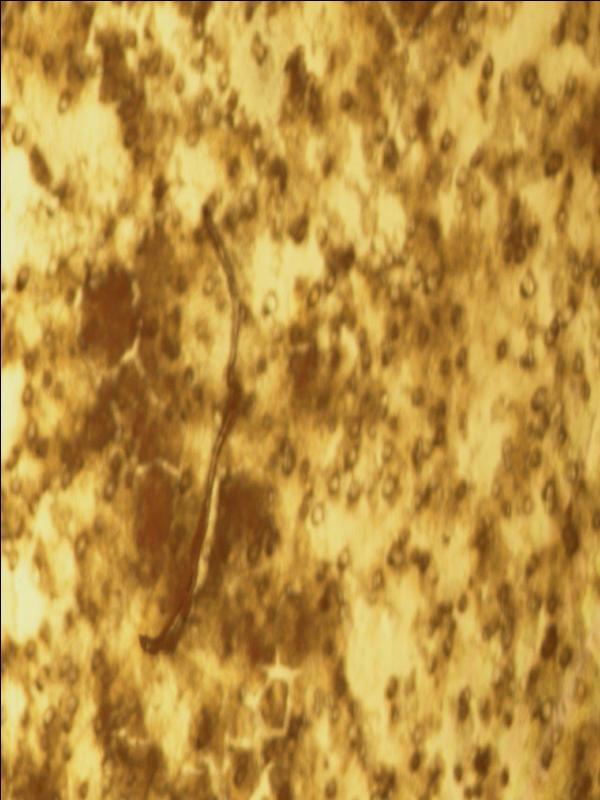microplastic: (1, 1, 598, 797), (133, 190, 246, 655)
